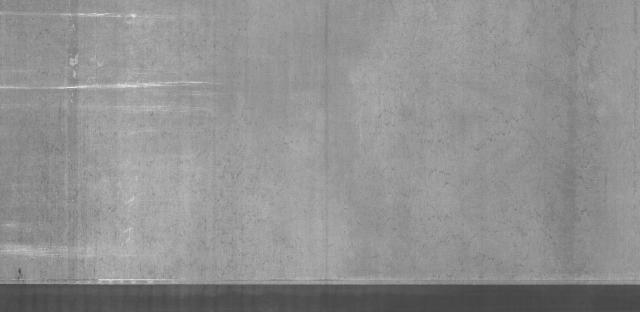welding_line: (2, 272, 640, 297)
